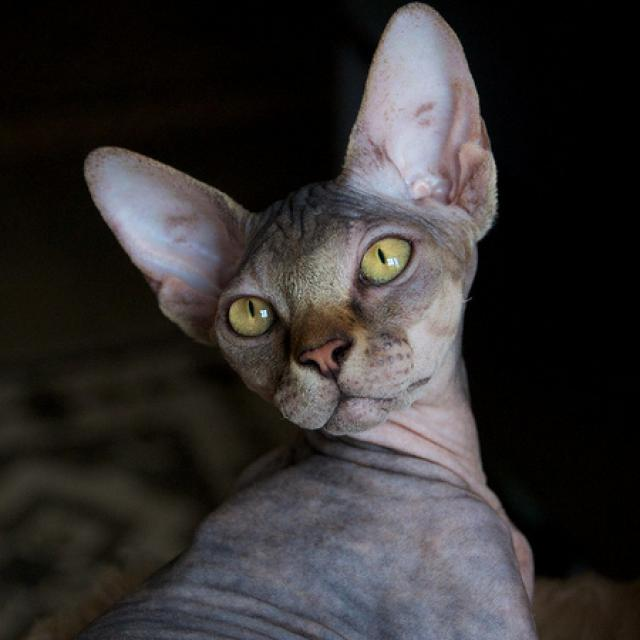Sphynx: (14, 0, 555, 640)
